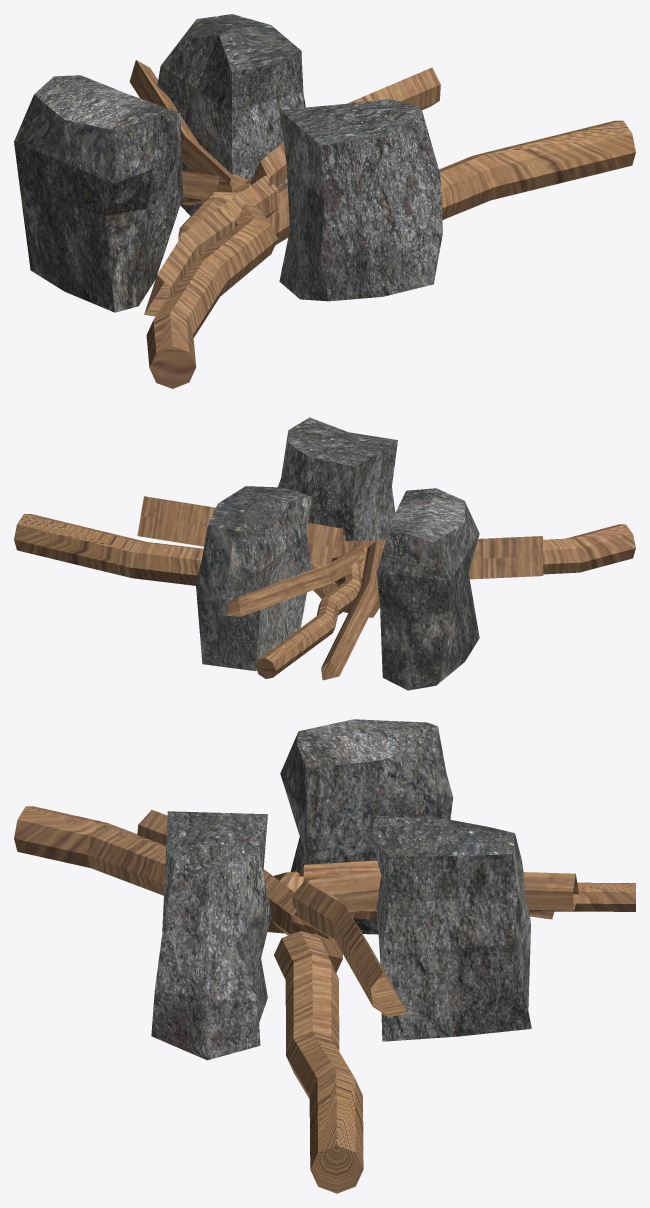
Rendered from Kitchen2.fbx.
3 renders of one model, top to bottom at view 1: azimuth 30°, elevation 25°; view 2: azimuth 150°, elevation 25°; view 3: azimuth 270°, elevation 25°, orthographic. The views are drawn at different scales.
Visible parts, largest first — view 1: Cube.007; view 2: Cube.007; view 3: Cube.007.
Part boxes in pixels (x1=…): Cube.007: x1=14, y1=14, x2=635, y2=388; Cube.007: x1=14, y1=417, x2=635, y2=690; Cube.007: x1=14, y1=719, x2=635, y2=1193.
Size of the model in its own units: 84.82 by 69.57 by 25.03.
2 materials, 2 textured.
